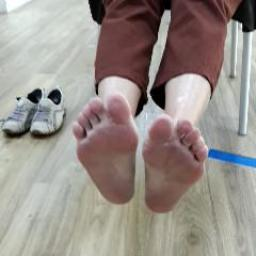Plantar View -Both Feet-: (60, 87, 229, 226)
